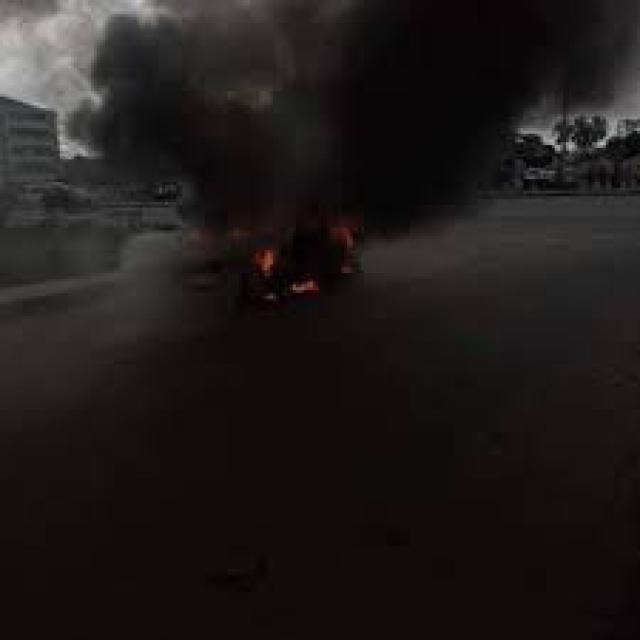smoke: (99, 19, 513, 210)
